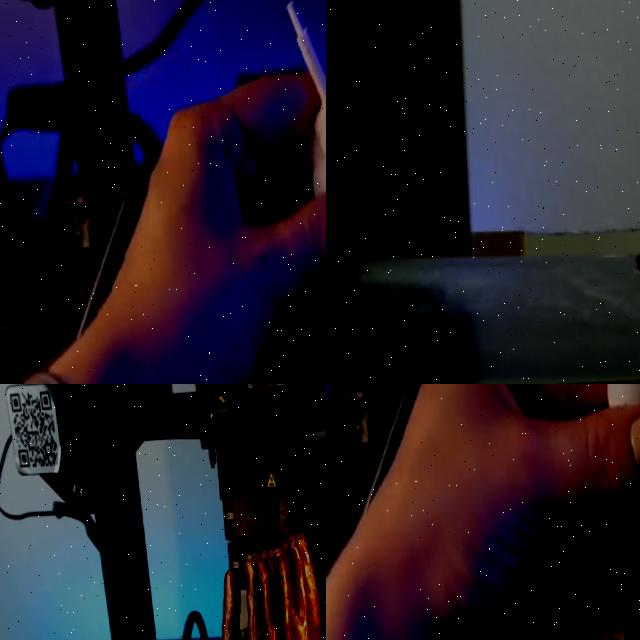spaghetti: (326, 280, 356, 308)
